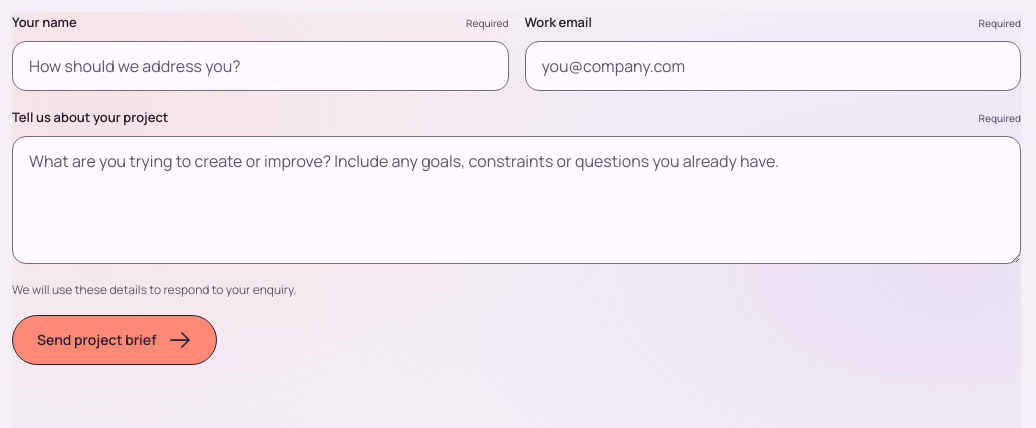
Test: short Home enquiry › submits the trimmed subset, prevents resubmission while pending, and focuses the shared success state
The width and height of the screenshot is (1036, 428).
Type "  Alex Morgan  " into the field labelled "Your name Required".
click(260, 66); type("  Alex Morgan  ")  # box [12,41,508,91]
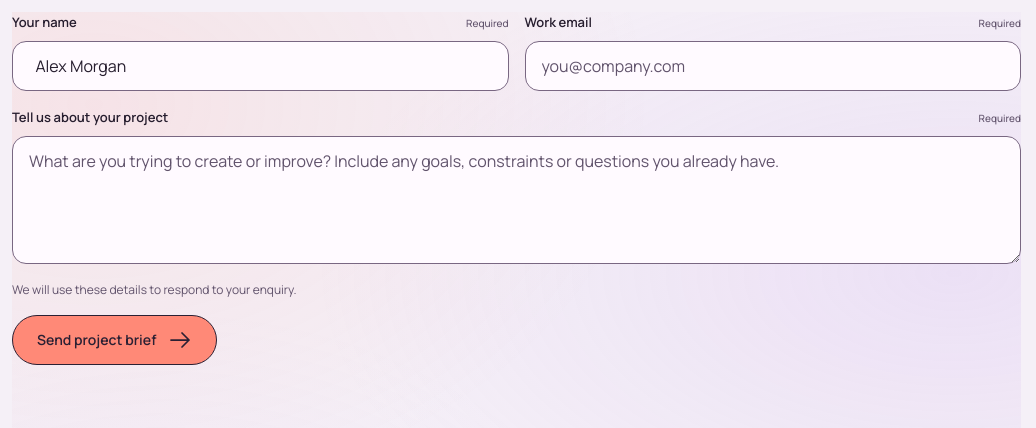
Type "alex@example.com" into the field labelled "Work email Required".
click(773, 66); type("alex@example.com")  # box [524,41,1021,91]
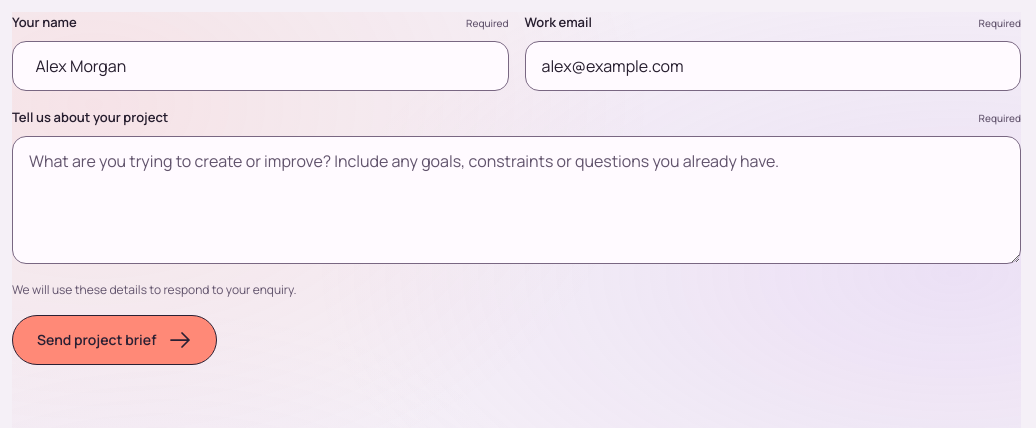
Replace the text in the text box labelled "Tell us about your project Required" with "We need a customer portal to replace our spreadsheet workflow." at (516, 200), box [12,136,1021,264]
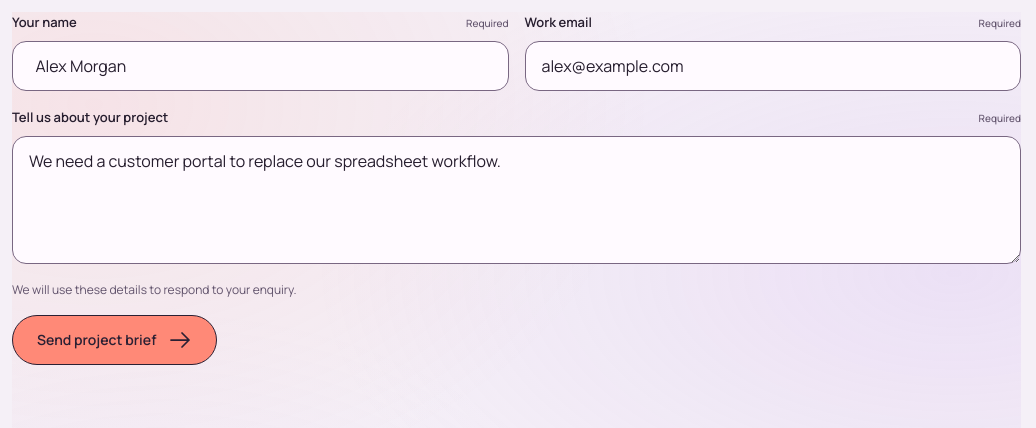
Click the button "Send project brief".
click(115, 340)  # box [12,315,217,365]
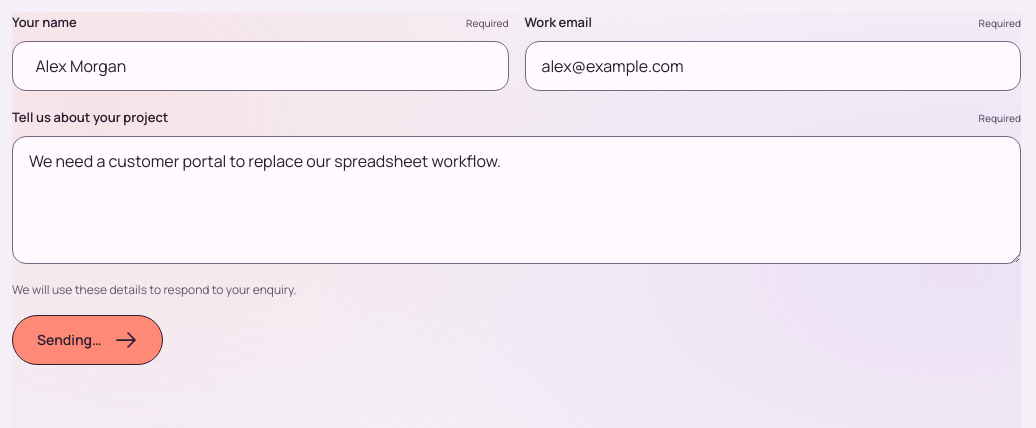
Expected: the element labelled "Your name" is disabled, [12,12,1021,264]
Expected: the button "Sending…" is disabled
Click the button "Sending…".
click(87, 340)  # box [12,315,163,365]
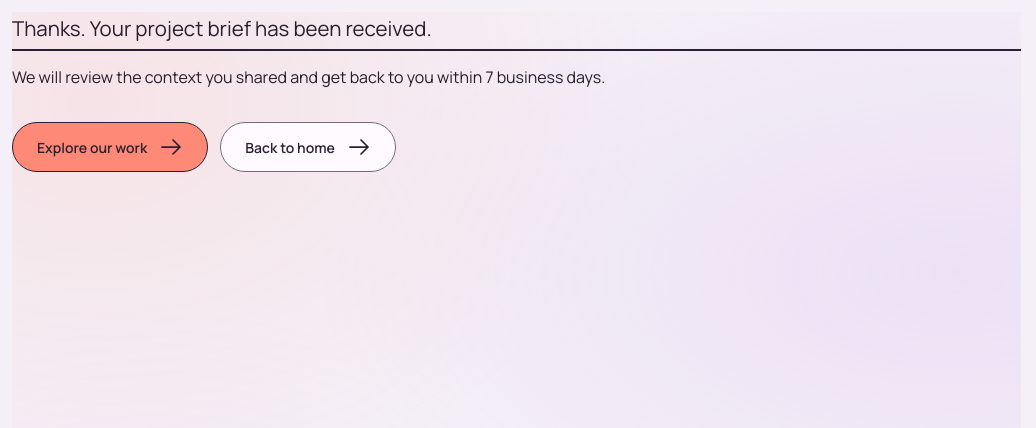
Expected: the text "We will review the context you shared and get back to you within 7 business days." is shown, [12,66,605,88]
Expected: the form is gone
